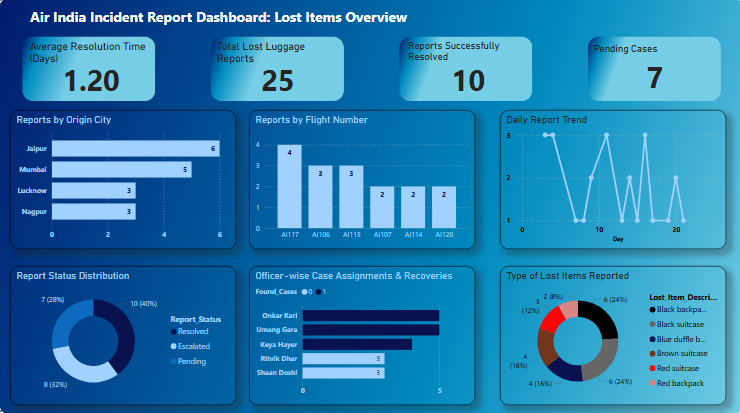

Layout of this report page (visuals, bound fields, positions):
{"tool":"powerbi","page":{"name":"Page 2","canvas":[1280,720],"ordinal":1},"visuals":[{"type":"barChart","title":"Reports by Origin City","fields":{"Category":["luggage_report_summary_view.Origin"],"Y":["CountNonNull(luggage_report_summary_view.Report_ID)"]},"box":[17.5,192.1,390.5,239.7],"z":0},{"type":"donutChart","title":"Report Status Distribution","fields":{"Category":["luggage_report_summary_view.Report_Status"],"Y":["CountNonNull(luggage_report_summary_view.Report_Status)"]},"box":[17.5,460.3,390.5,239.7],"z":1000},{"type":"card","title":"\tReports Successfully Resolved","fields":{"Values":["luggage_report_summary_view.Resolved Reports"]},"box":[698.4,71.4,219,93.7],"z":2000},{"type":"card","title":"\tTotal Lost Luggage Reports","fields":{"Values":["luggage_report_summary_view.Total Reports"]},"box":[368.3,71.4,220.6,93.7],"z":3000},{"type":"card","title":"Average Resolution Time (Days)","fields":{"Values":["luggage_report_summary_view.Avg_Resolution_Days"]},"box":[46,71.4,220.6,93.7],"z":4000},{"type":"card","title":"Pending Cases","fields":{"Values":["luggage_report_summary_view.Pending Reports"]},"box":[1019,76.2,220.6,93.7],"z":5000},{"type":"lineChart","title":"Daily Report Trend","fields":{"Category":["luggage_report_summary_view.Report_Date.Variation.Date Hierarchy.Day"],"Y":["CountNonNull(luggage_report_summary_view.Report_ID)"]},"box":[861.9,192.1,390.5,239.7],"z":6000},{"type":"barChart","title":"Officer-wise Case Assignments & Recoveries","fields":{"Category":["team_performance_summary_view.Officer_Name"],"Y":["Sum(team_performance_summary_view.Total_Cases_Assigned)"],"Series":["team_performance_summary_view.Found_Cases"]},"box":[428.6,460.3,390.5,239.7],"z":7000},{"type":"columnChart","title":"\tReports by Flight Number","fields":{"Category":["luggage_report_summary_view.Flight_No"],"Y":["CountNonNull(luggage_report_summary_view.Report_ID)"]},"box":[428.6,192.1,390.5,239.7],"z":8000},{"type":"donutChart","title":"Type of Lost Items Reported","fields":{"Category":["luggage_report_summary_view.Lost_Item_Description"],"Y":["CountNonNull(luggage_report_summary_view.Report_ID)"]},"box":[861.9,460.3,390.5,239.7],"z":9000},{"type":"textbox","box":[45.7,8.6,750,50],"z":10000}]}

Visuals, with their boxes in screenshot pixels (x1, y1, x2, y2), scaled from the page's 1280x720 canvas onto the 740x413 screenshot:
"Reports by Origin City" barChart: l=10, t=110, r=236, b=248
"Report Status Distribution" donutChart: l=10, t=264, r=236, b=402
"	Reports Successfully Resolved" card: l=404, t=41, r=530, b=95
"	Total Lost Luggage Reports" card: l=213, t=41, r=340, b=95
"Average Resolution Time (Days)" card: l=27, t=41, r=154, b=95
"Pending Cases" card: l=589, t=44, r=717, b=97
"Daily Report Trend" lineChart: l=498, t=110, r=724, b=248
"Officer-wise Case Assignments & Recoveries" barChart: l=248, t=264, r=474, b=402
"	Reports by Flight Number" columnChart: l=248, t=110, r=474, b=248
"Type of Lost Items Reported" donutChart: l=498, t=264, r=724, b=402
textbox: l=26, t=5, r=460, b=34
